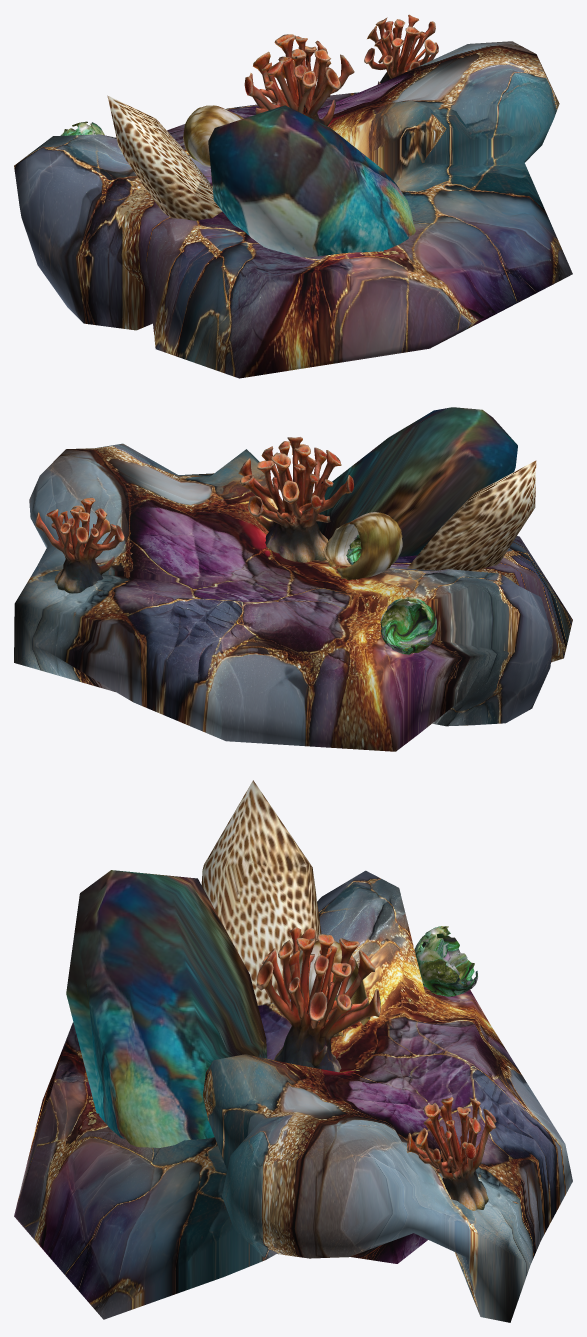
The picture shows the model from 3 angles, top to bottom: view 1: azimuth 30°, elevation 25°; view 2: azimuth 150°, elevation 25°; view 3: azimuth 270°, elevation 25°; orthographic projection. The views are drawn at different scales.
Visible parts, largest first — view 1: MSH_Base_04_Main, MSH_Base_04_Rocks, MSH_Base_04_Coral, MSH_Base_04_Shell.002; view 2: MSH_Base_04_Main, MSH_Base_04_Rocks, MSH_Base_04_Coral, MSH_Base_04_Shell.002, MSH_Base_04_Shell; view 3: MSH_Base_04_Main, MSH_Base_04_Rocks, MSH_Base_04_Coral, MSH_Base_04_Shell, MSH_Base_04_Shell.002.
Part boxes in pixels (x1,y1,x2,y2): MSH_Base_04_Main: (14,41,572,378); MSH_Base_04_Rocks: (107,95,415,257); MSH_Base_04_Coral: (244,14,438,126); MSH_Base_04_Shell.002: (183,105,243,167); MSH_Base_04_Main: (14,443,572,751); MSH_Base_04_Rocks: (316,407,536,570); MSH_Base_04_Coral: (35,437,353,593); MSH_Base_04_Shell.002: (323,512,402,580); MSH_Base_04_Shell: (346,535,436,654); MSH_Base_04_Main: (14,870,572,1322); MSH_Base_04_Rocks: (66,780,321,1147); MSH_Base_04_Coral: (256,927,496,1210); MSH_Base_04_Shell: (335,926,477,1000); MSH_Base_04_Shell.002: (299,941,370,1037).
Bounding box in the file's own units: 2564 × 1157 × 1904.
